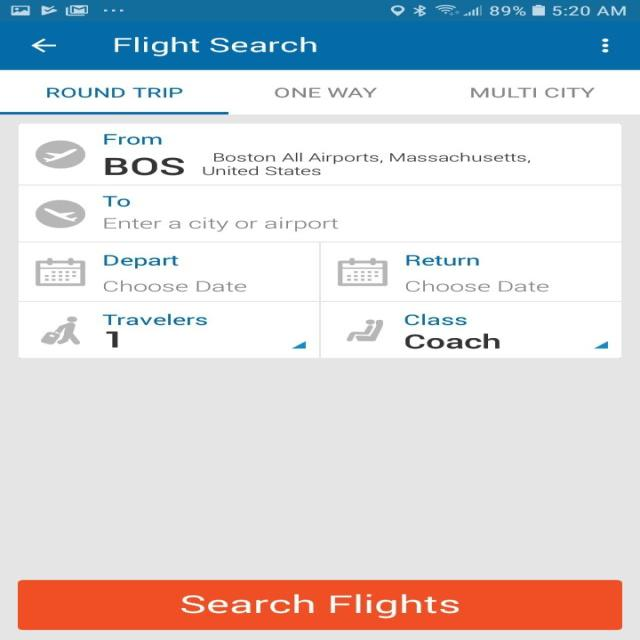Icon: (33, 257, 86, 285), (337, 257, 387, 286), (30, 38, 57, 53), (601, 36, 609, 53), (593, 341, 608, 348), (292, 341, 306, 348)
Image: (34, 140, 86, 169), (34, 199, 86, 228), (40, 316, 81, 344), (346, 319, 384, 341)
Text: (114, 36, 316, 56), (213, 152, 530, 164), (103, 216, 339, 232), (102, 278, 246, 292), (406, 279, 548, 292), (468, 85, 593, 99), (404, 333, 500, 349), (46, 87, 183, 98), (104, 157, 185, 175), (102, 313, 207, 325), (203, 166, 321, 176), (100, 253, 178, 268), (274, 87, 377, 98), (405, 254, 479, 266), (404, 313, 466, 325), (103, 133, 162, 145), (101, 195, 130, 208), (105, 330, 118, 348)
TextButton: (18, 580, 622, 630)
